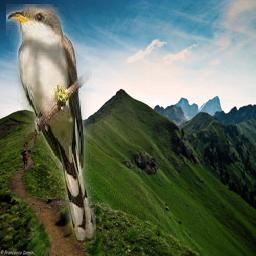Cuckoo: (6, 4, 96, 244)
